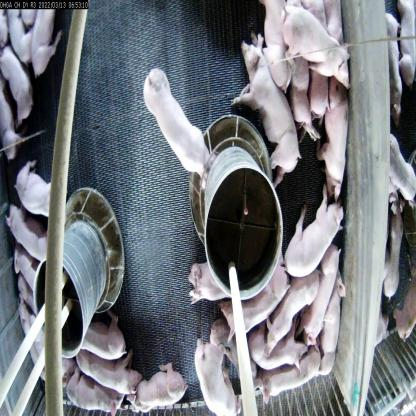Pig: (142, 65, 216, 187), (218, 258, 290, 345), (280, 193, 348, 278), (262, 270, 321, 349), (300, 242, 344, 346), (192, 336, 247, 415), (316, 272, 350, 387), (186, 261, 264, 309), (124, 361, 190, 416), (258, 351, 320, 405), (4, 204, 58, 265), (213, 317, 260, 387), (14, 160, 58, 227), (3, 45, 36, 128), (384, 125, 415, 211), (62, 372, 122, 416), (80, 356, 141, 399), (74, 322, 129, 367), (254, 328, 307, 372), (393, 3, 416, 102), (383, 9, 402, 128), (13, 242, 44, 297), (15, 283, 39, 318)
